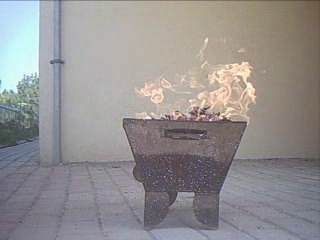fire: (134, 36, 257, 122)
